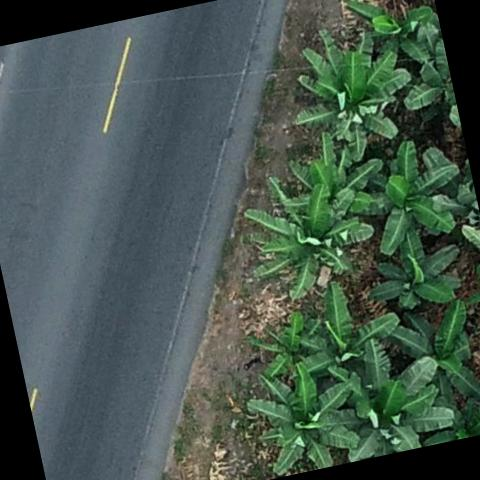Banana-plant: (280, 23, 420, 174), (248, 165, 384, 304), (324, 330, 458, 462), (353, 130, 478, 264), (241, 354, 370, 480), (373, 291, 480, 412), (361, 219, 471, 321), (306, 271, 407, 371), (340, 0, 442, 79), (255, 303, 340, 388), (390, 53, 462, 145)
